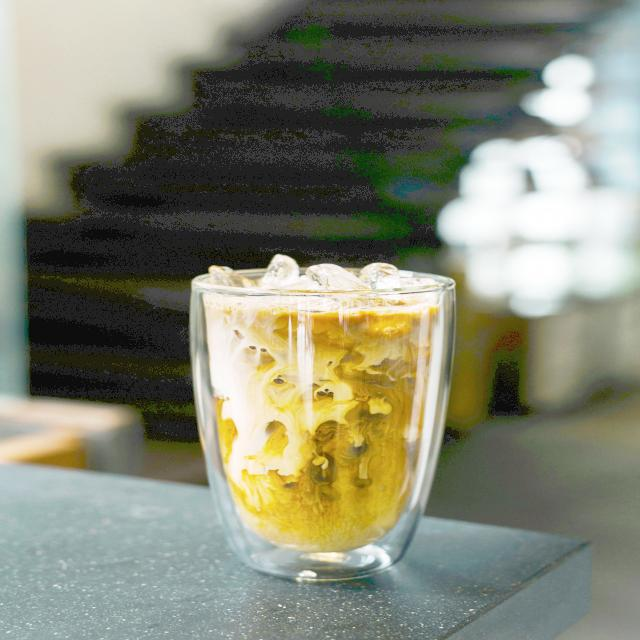drink: (198, 263, 455, 555)
